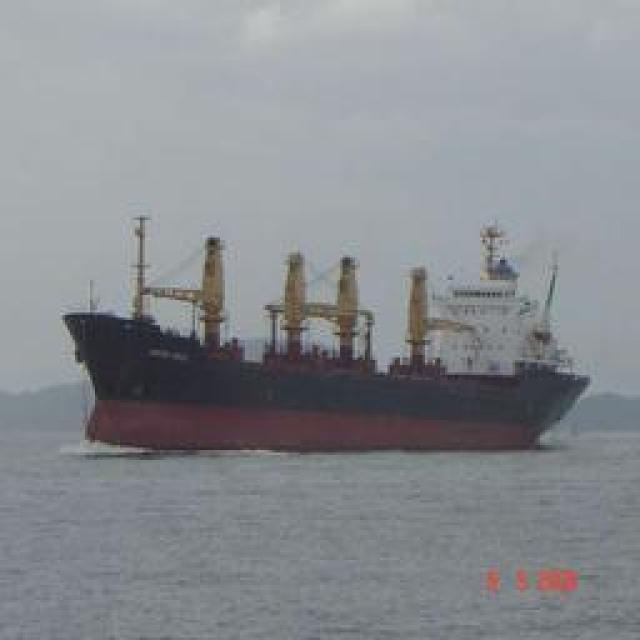CIV_Ship: (60, 215, 585, 455)
